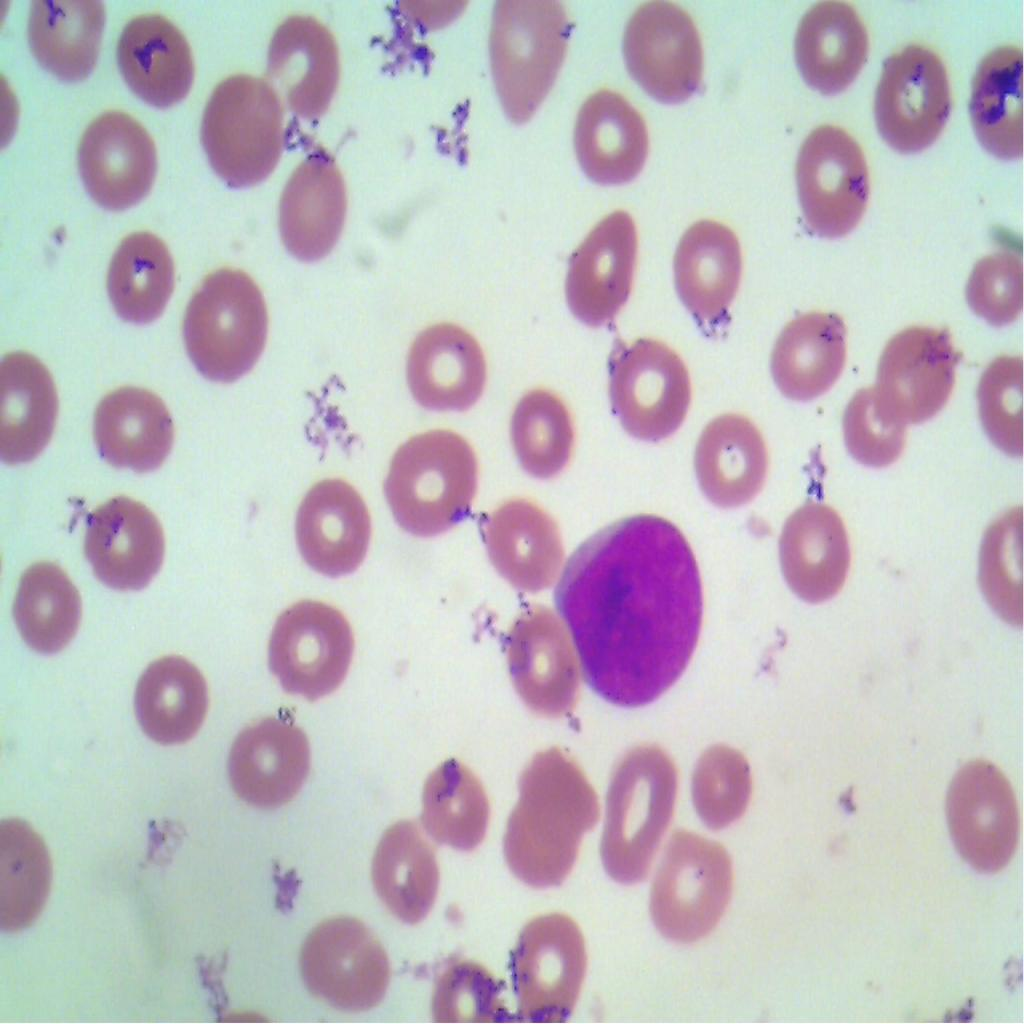Eritrosit: (503, 744, 604, 897), (473, 0, 579, 125), (928, 741, 1023, 878), (548, 198, 646, 326), (779, 115, 878, 241), (598, 337, 698, 458), (178, 262, 272, 390), (262, 598, 363, 712), (601, 737, 678, 884), (293, 904, 399, 1010), (758, 295, 852, 414), (648, 829, 741, 947), (395, 307, 493, 418), (382, 426, 479, 538), (218, 707, 316, 815), (200, 68, 286, 189), (618, 0, 710, 112), (498, 920, 598, 1023), (284, 470, 373, 584), (79, 495, 175, 600), (76, 102, 164, 216), (871, 314, 959, 428), (566, 86, 656, 196), (870, 41, 950, 164), (669, 208, 748, 331), (113, 5, 198, 112), (262, 6, 344, 116), (784, 0, 873, 100), (366, 811, 442, 928), (478, 487, 566, 588), (776, 500, 856, 610), (93, 374, 178, 477), (98, 230, 182, 334), (686, 409, 768, 512), (954, 37, 1023, 158), (134, 644, 212, 751), (6, 555, 86, 658), (284, 144, 350, 268), (504, 607, 578, 717), (419, 751, 489, 861), (0, 349, 64, 468), (966, 346, 1024, 465), (506, 381, 573, 482), (419, 950, 511, 1023), (690, 730, 758, 826), (26, 0, 104, 78), (961, 237, 1023, 332), (843, 380, 904, 474)
Limfoblast: (553, 514, 709, 721)
